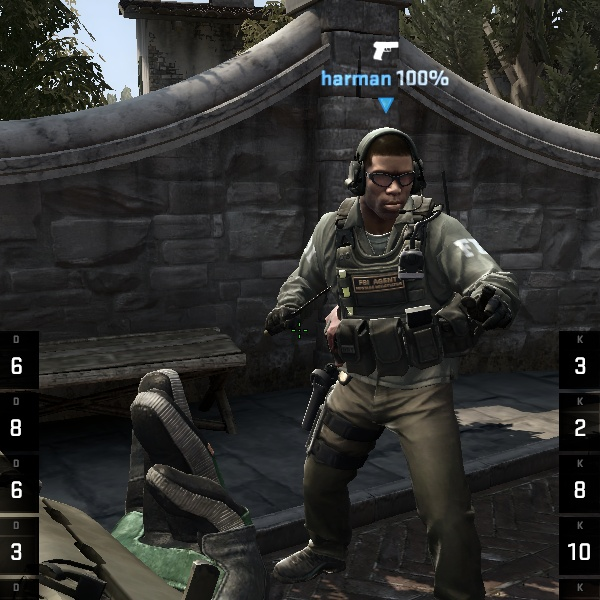ct_body: (250, 119, 524, 596)
ct_head: (331, 120, 443, 227)
